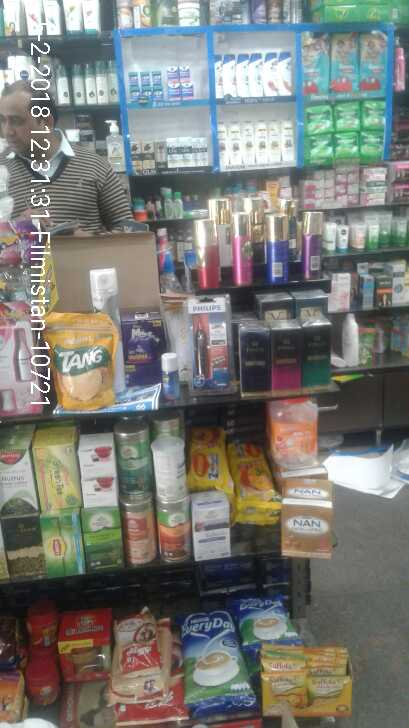vicks: (128, 65, 195, 100)
